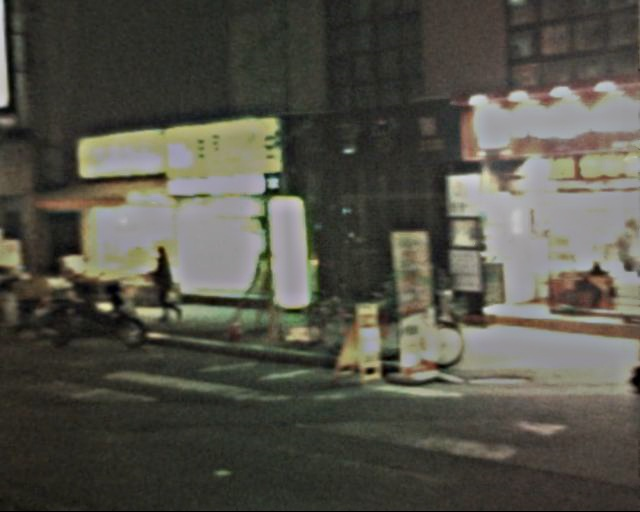person: (129, 243, 182, 328)
